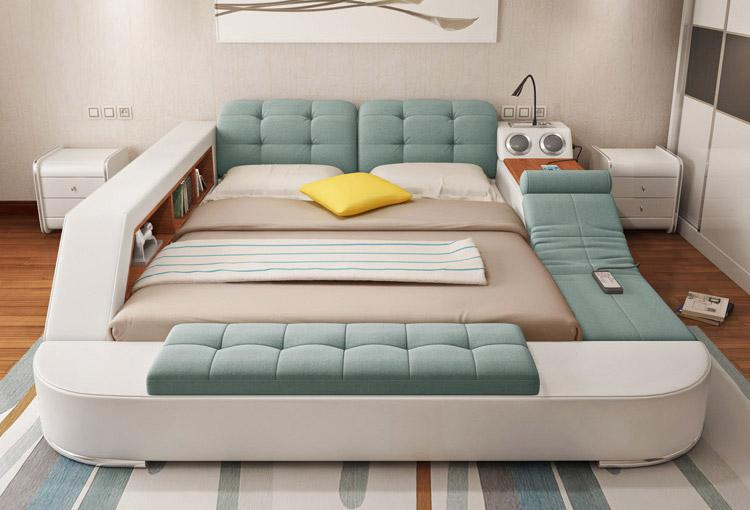bed: (34, 81, 703, 485)
